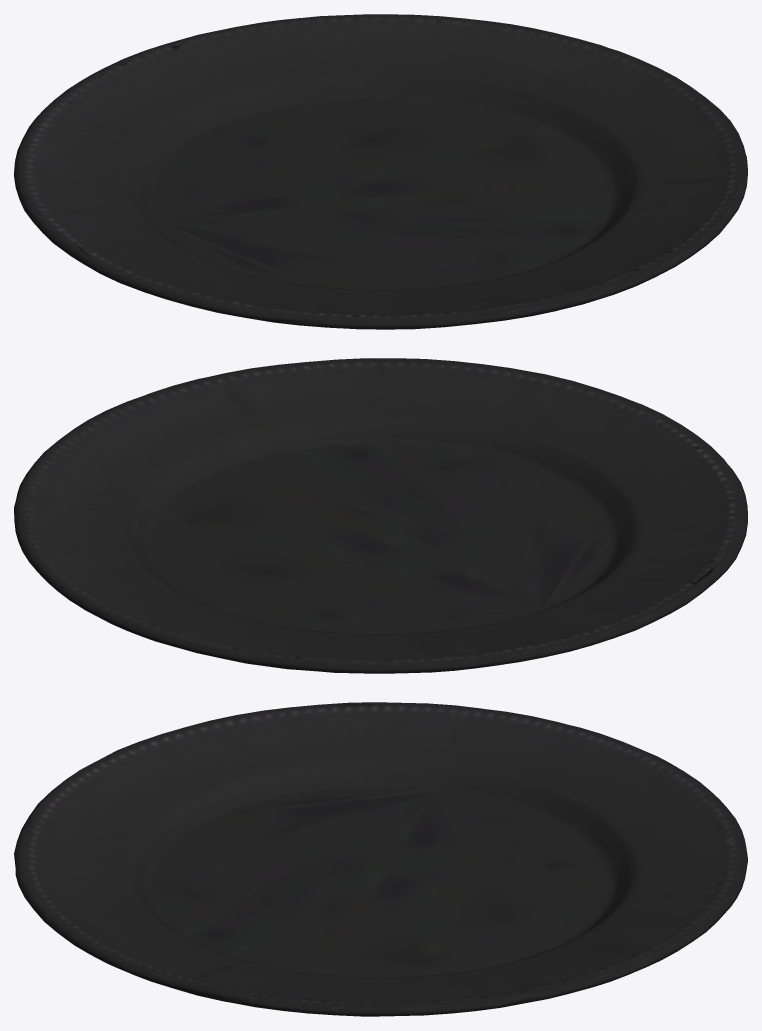
Rendered from Black_Beaded_Charger__0308230427_texture.glb.
3 renders of one model, top to bottom at view 1: azimuth 30°, elevation 25°; view 2: azimuth 150°, elevation 25°; view 3: azimuth 270°, elevation 25°, orthographic.
Visible parts, largest first — view 1: Mesh_0; view 2: Mesh_0; view 3: Mesh_0.
Part boxes in pixels (x1,y1,x2,y2): Mesh_0: [14, 14, 747, 329]; Mesh_0: [14, 358, 747, 673]; Mesh_0: [14, 702, 747, 1016].
Bounding box in the file's own units: 0.2865 × 0.0254 × 0.2877.
1 material, 1 textured.
